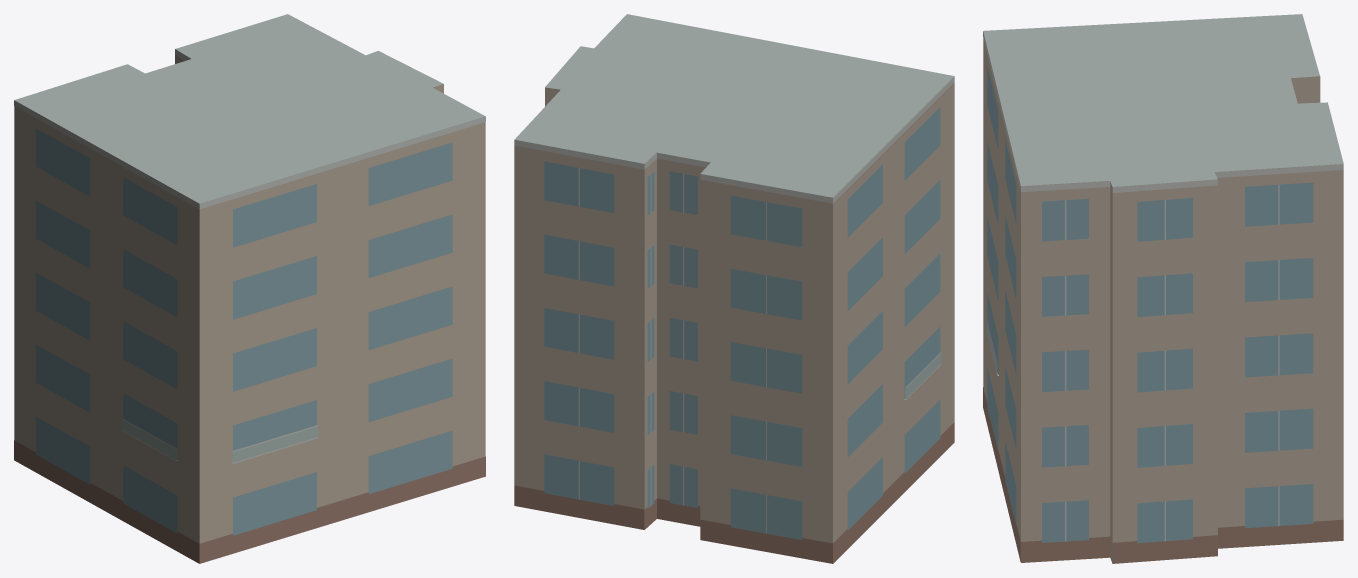
File: survey-upis-32821187.glb
3 views of the same model, side by side, from view 1: azimuth 30°, elevation 25°; view 2: azimuth 150°, elevation 25°; view 3: azimuth 270°, elevation 25° (orthographic). The views are drawn at different scales.
Visible parts, largest first — view 1: survey-upis-32821187.tmp; view 2: survey-upis-32821187.tmp; view 3: survey-upis-32821187.tmp.
Part boxes in pixels (<box>): survey-upis-32821187.tmp: <box>14,14,485,563</box>; survey-upis-32821187.tmp: <box>514,14,954,563</box>; survey-upis-32821187.tmp: <box>983,14,1343,563</box>.
Size of the model in its own units: 15.03 by 15.25 by 13.24.
